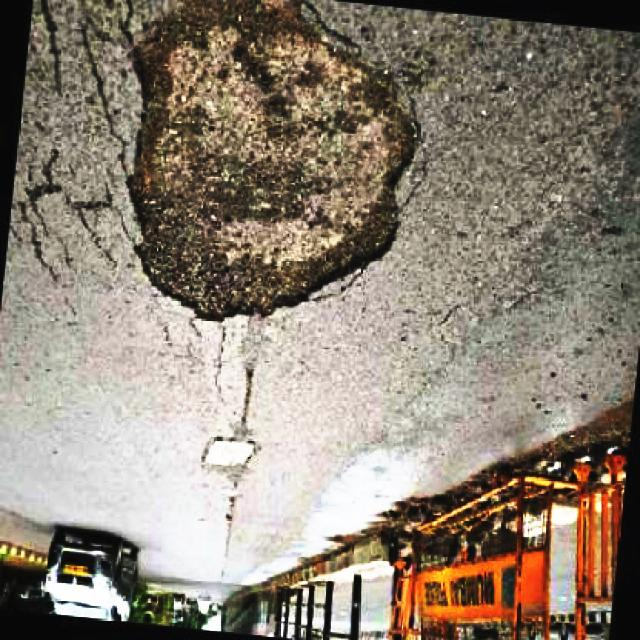pothole: (126, 0, 425, 322)
